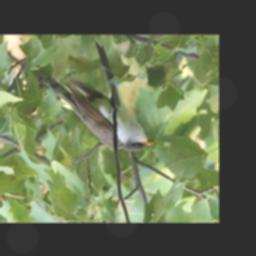Cuckoo: (33, 75, 153, 155)
